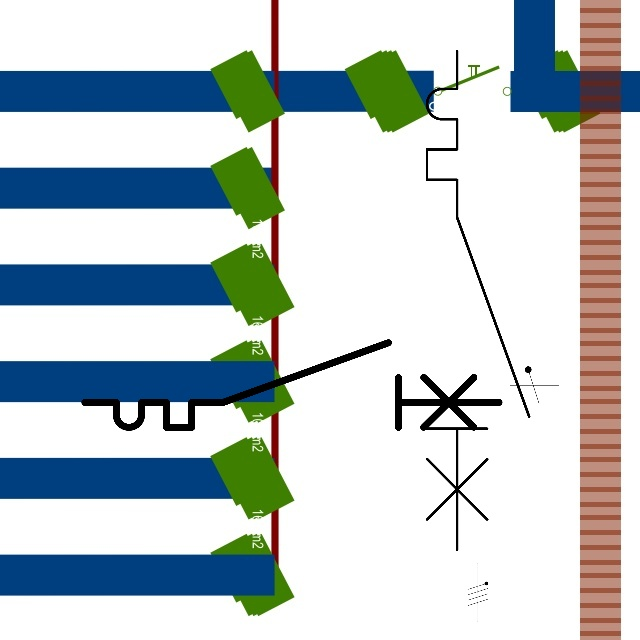interruptor_termomagnetico: (414, 38, 542, 562), (74, 332, 509, 438)
